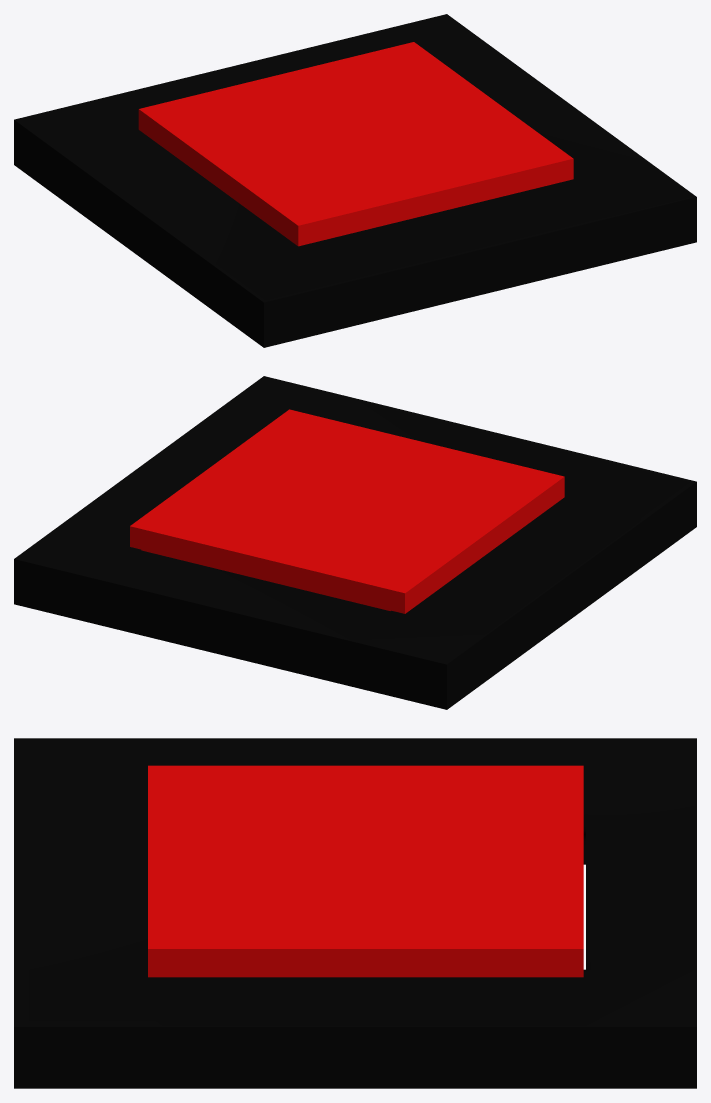
Rendered from Pressure_Plate.fbx.
3 views of the same model, one above another, from view 1: azimuth 30°, elevation 25°; view 2: azimuth 150°, elevation 25°; view 3: azimuth 270°, elevation 25° (orthographic). The views are drawn at different scales.
Parts seen in each view (by area): view 1: pCube1, pCube2; view 2: pCube1, pCube2; view 3: pCube1, pCube2.
Boxes of the visible parts, <box> form: pCube1: <box>14,14,696,347</box>; pCube2: <box>138,42,573,246</box>; pCube1: <box>14,376,696,709</box>; pCube2: <box>130,409,564,613</box>; pCube1: <box>14,738,696,1088</box>; pCube2: <box>148,765,583,977</box>.
Size of the model in its own units: 100 by 14.56 by 100.
